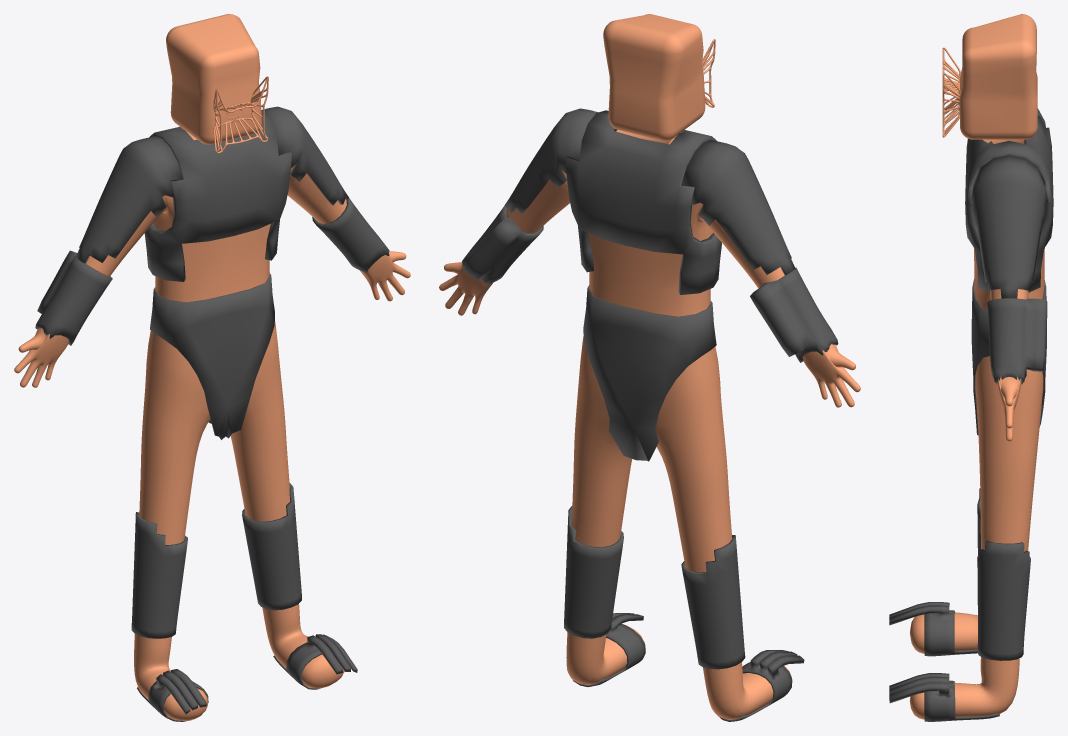
3 views of the same model, side by side, from view 1: azimuth 30°, elevation 25°; view 2: azimuth 150°, elevation 25°; view 3: azimuth 270°, elevation 25° (orthographic). The views are drawn at different scales.
Parts seen in each view (by area): view 1: Cuerpo, Pechera, Calzon, Hombro, Pantorrilla, Cabezza, Brazalete, Pie, Boca; view 2: Cuerpo, Pechera, Calzon, Hombro, Cabezza, Pantorrilla, Brazalete, Pie; view 3: Cuerpo, Cabezza, Hombro, Pantorrilla, Brazalete, Pie, Pechera, Calzon, Boca.
Boxes of the visible parts, x1,y1,x2,y2 form: Cuerpo: (14, 134, 410, 720); Pechera: (144, 110, 291, 281); Calzon: (150, 273, 274, 439); Hombro: (76, 106, 348, 263); Pantorrilla: (131, 483, 301, 638); Cabezza: (166, 14, 261, 144); Brazalete: (35, 198, 389, 345); Pie: (137, 634, 357, 721); Boca: (213, 76, 268, 153); Cuerpo: (439, 130, 860, 719); Pechera: (565, 110, 721, 294); Calzon: (583, 285, 716, 461); Hombro: (504, 108, 795, 275); Cabezza: (603, 14, 705, 143); Pantorrilla: (564, 506, 745, 669); Brazalete: (462, 206, 838, 362); Pie: (573, 613, 804, 721); Cuerpo: (909, 248, 1044, 719); Cabezza: (960, 14, 1037, 143); Hombro: (970, 108, 1048, 298); Pantorrilla: (977, 488, 1030, 660); Brazalete: (987, 298, 1047, 384); Pie: (889, 602, 999, 721); Pechera: (965, 115, 1053, 292); Calzon: (971, 279, 1046, 434); Boca: (942, 47, 960, 137).
Size of the model in its own units: 255 by 399 by 90.36.
